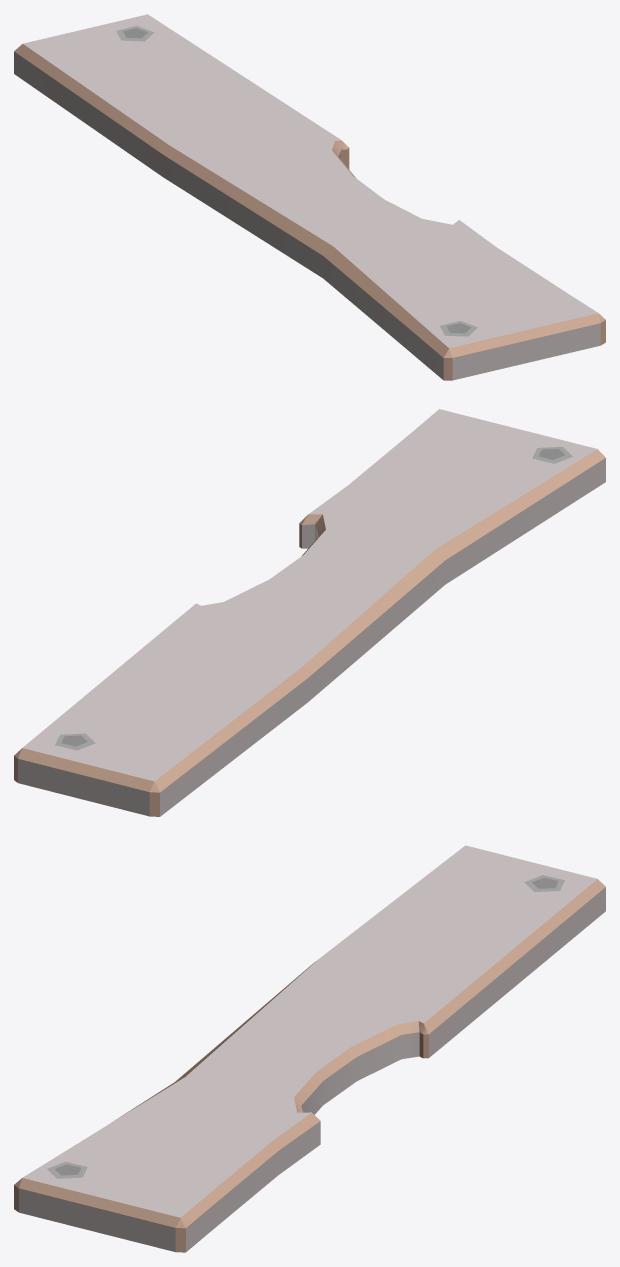
The model's file is WoodBoardB_0.glb.
3 renders of one model, top to bottom at view 1: azimuth 30°, elevation 25°; view 2: azimuth 150°, elevation 25°; view 3: azimuth 330°, elevation 25°, orthographic. The views are drawn at different scales.
Parts seen in each view (by area): view 1: WoodBoardB; view 2: WoodBoardB; view 3: WoodBoardB.
Part boxes in pixels (x1,y1,x2,y2): WoodBoardB: [14, 14, 605, 380]; WoodBoardB: [14, 409, 605, 816]; WoodBoardB: [14, 845, 605, 1252].
Bounding box in the file's own units: 0.8508 × 0.1497 × 3.73.
